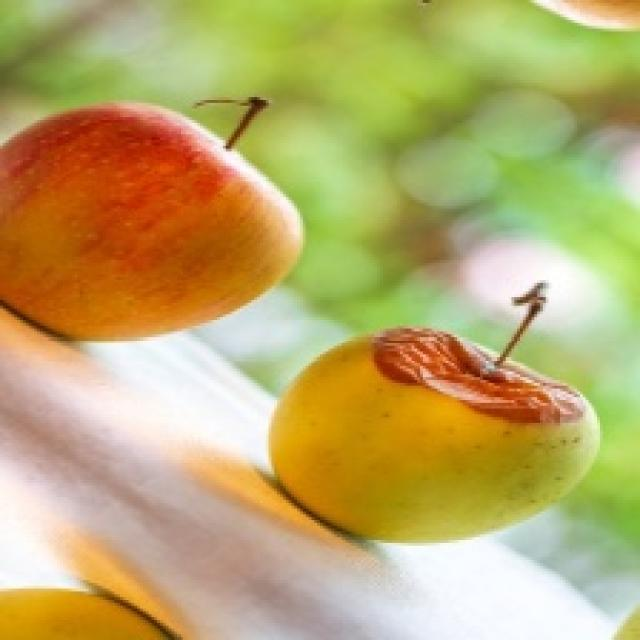apple: (269, 328, 598, 541)
